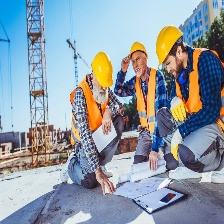helmet: (152, 24, 184, 69), (92, 51, 115, 90), (130, 42, 149, 61)
no-vest: (174, 53, 224, 149), (72, 85, 112, 160)
person: (154, 25, 224, 174), (68, 51, 124, 196), (117, 43, 158, 175)
